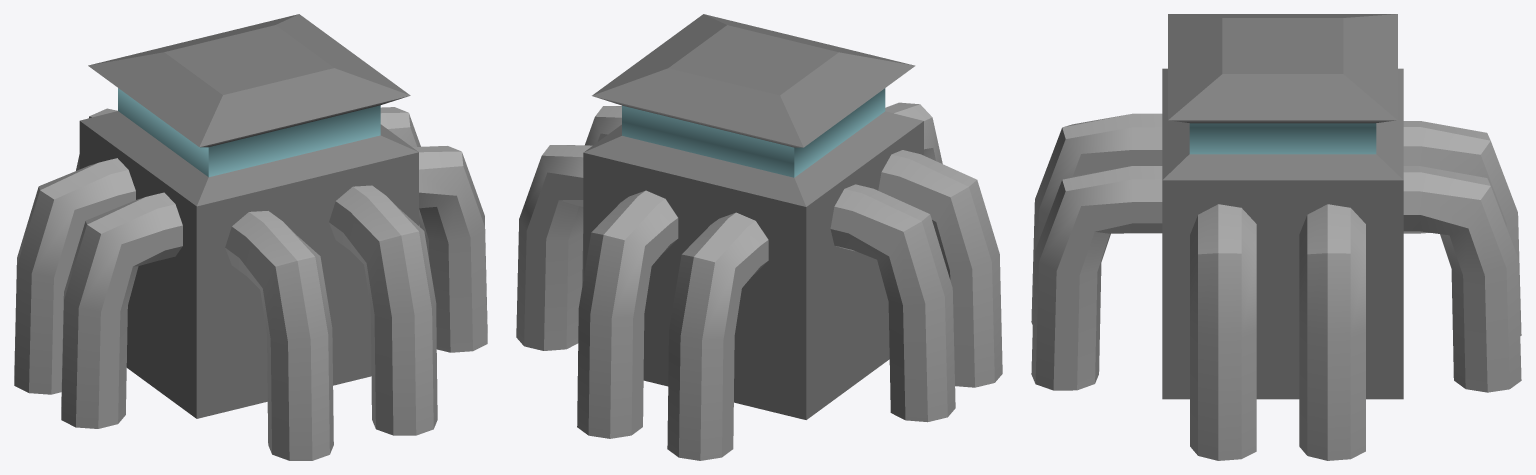
File: ComputingAsset1.fbx
3 renders of one model, left to right at view 1: azimuth 30°, elevation 25°; view 2: azimuth 150°, elevation 25°; view 3: azimuth 270°, elevation 25°, orthographic. The views are drawn at different scales.
Parts seen in each view (by area): view 1: computingasset1; view 2: computingasset1; view 3: computingasset1.
Part boxes in pixels (<box>): computingasset1: <box>14,14,487,460</box>; computingasset1: <box>516,14,1002,460</box>; computingasset1: <box>1031,14,1521,460</box>.
Bounding box in the file's own units: 14.59 × 9.99 × 14.27.
